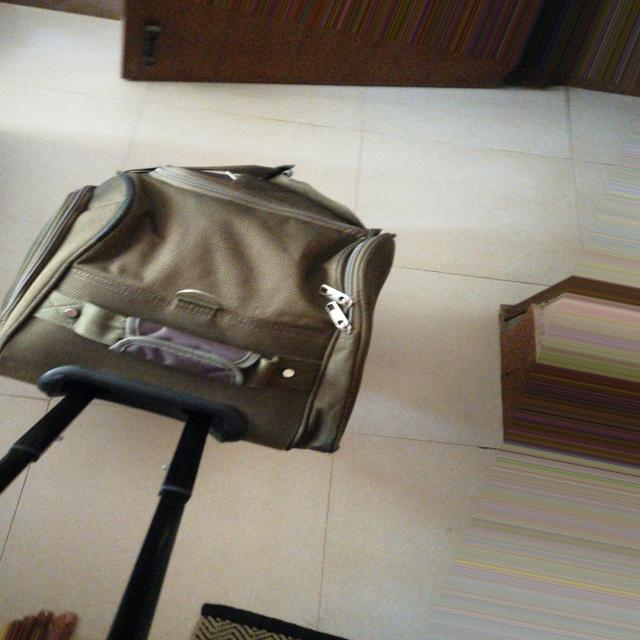Bag: (4, 145, 437, 640)
Handle: (4, 354, 228, 634)
